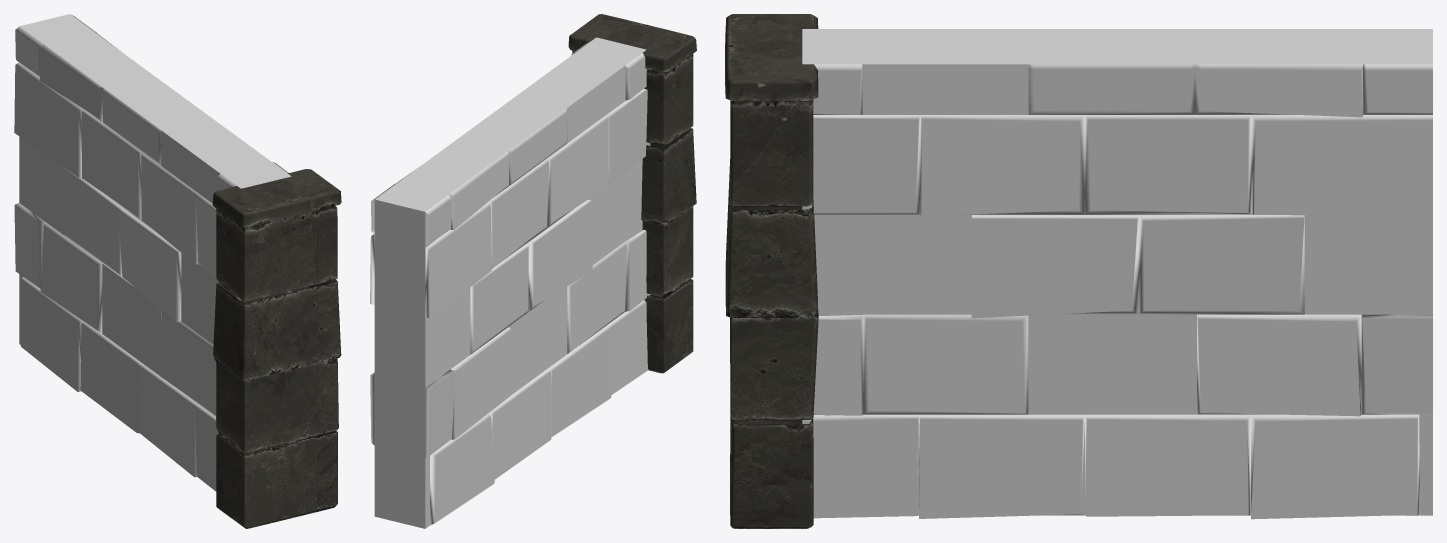
3 renders of one model, left to right at view 1: azimuth 30°, elevation 25°; view 2: azimuth 150°, elevation 25°; view 3: azimuth 270°, elevation 25°, orthographic. The views are drawn at different scales.
Parts seen in each view (by area): view 1: SM_Greathall_Wall_Blank_8x6_01_LOD0; view 2: SM_Greathall_Wall_Blank_8x6_01_LOD0; view 3: SM_Greathall_Wall_Blank_8x6_01_LOD0.
Part boxes in pixels (bbox=[...]): SM_Greathall_Wall_Blank_8x6_01_LOD0: bbox=[14, 14, 341, 528]; SM_Greathall_Wall_Blank_8x6_01_LOD0: bbox=[370, 14, 696, 528]; SM_Greathall_Wall_Blank_8x6_01_LOD0: bbox=[725, 14, 1432, 528].
Bounding box in the file's own units: 1.99 × 6 × 8.53.
Materials: 2 (1 with a texture image).
